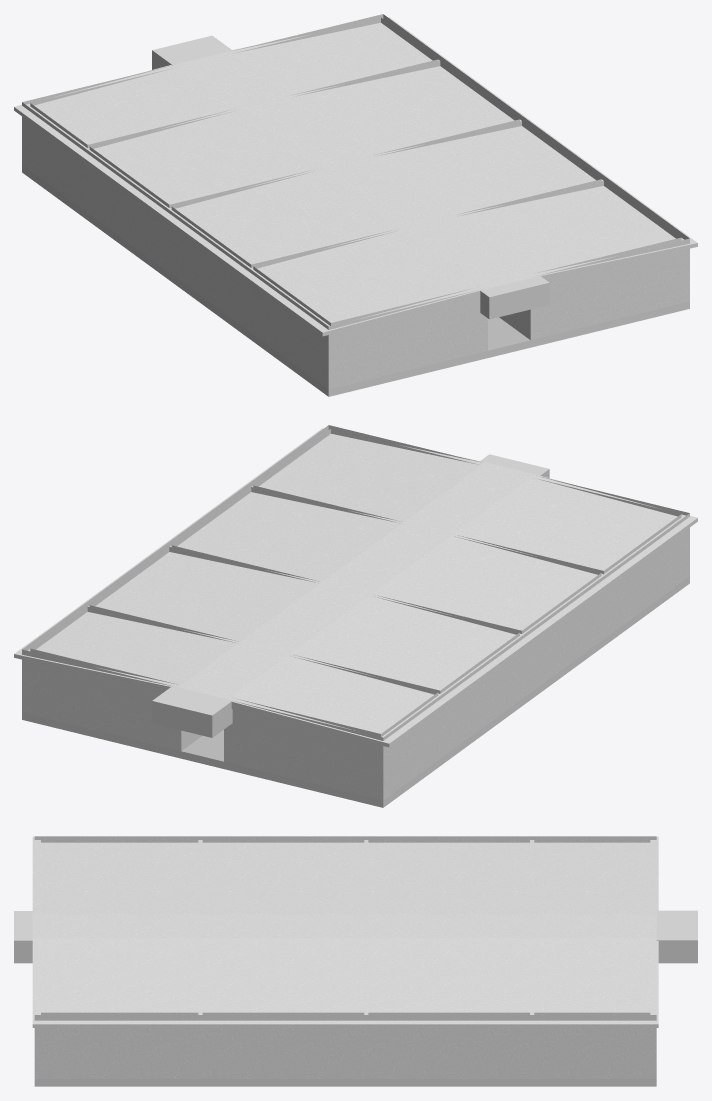
File: Classroom.fbx
3 views of the same model, one above another, from view 1: azimuth 30°, elevation 25°; view 2: azimuth 150°, elevation 25°; view 3: azimuth 270°, elevation 25° (orthographic).
Parts seen in each view (by area): view 1: Plane.001; view 2: Plane.001; view 3: Plane.001.
Part boxes in pixels (bbox=[...]): Plane.001: bbox=[14, 14, 697, 396]; Plane.001: bbox=[14, 425, 697, 807]; Plane.001: bbox=[14, 836, 697, 1086].
Size of the model in its own units: 2120 by 381 by 3300.
